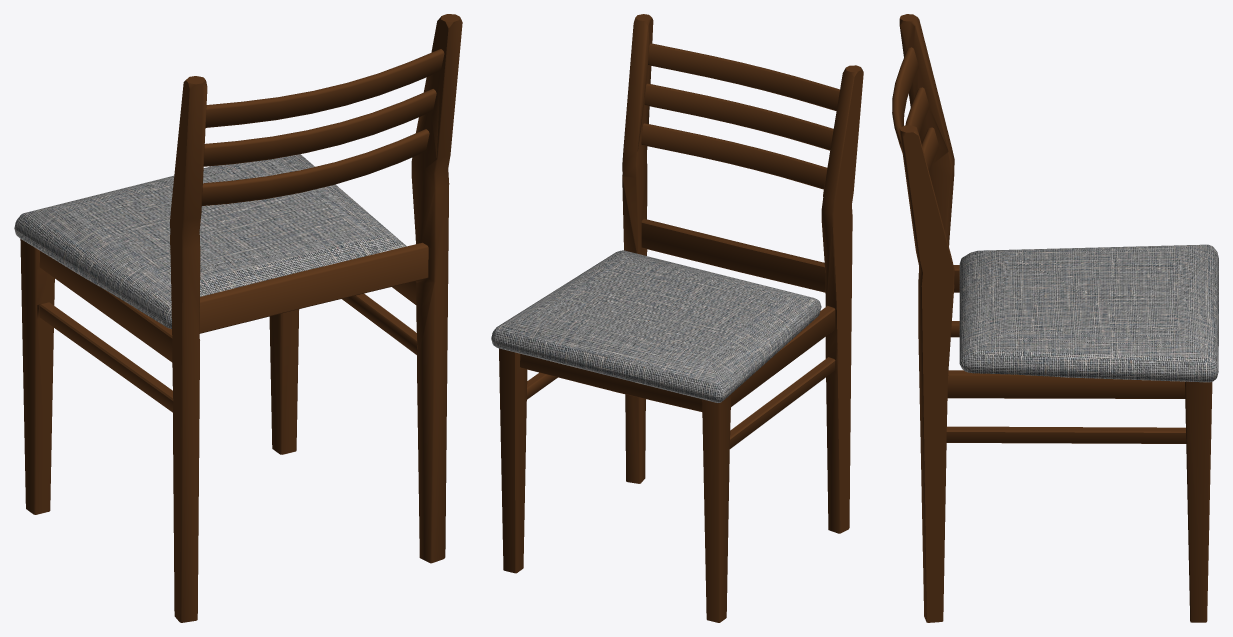
The model's file is chair.FBX.
The picture shows the model from 3 angles, left to right: view 1: azimuth 30°, elevation 25°; view 2: azimuth 150°, elevation 25°; view 3: azimuth 270°, elevation 25°; orthographic projection. The views are drawn at different scales.
Visible parts, largest first — view 1: chair_hull, seat; view 2: chair_hull, seat; view 3: chair_hull, seat.
Part boxes in pixels (x1,y1,x2,y2): chair_hull: (20,14,462,622); seat: (14,154,406,328); chair_hull: (499,14,863,622); seat: (491,250,821,402); chair_hull: (892,14,1212,622); seat: (959,244,1218,382).
Size of the model in its own units: 110 by 203 by 122.
